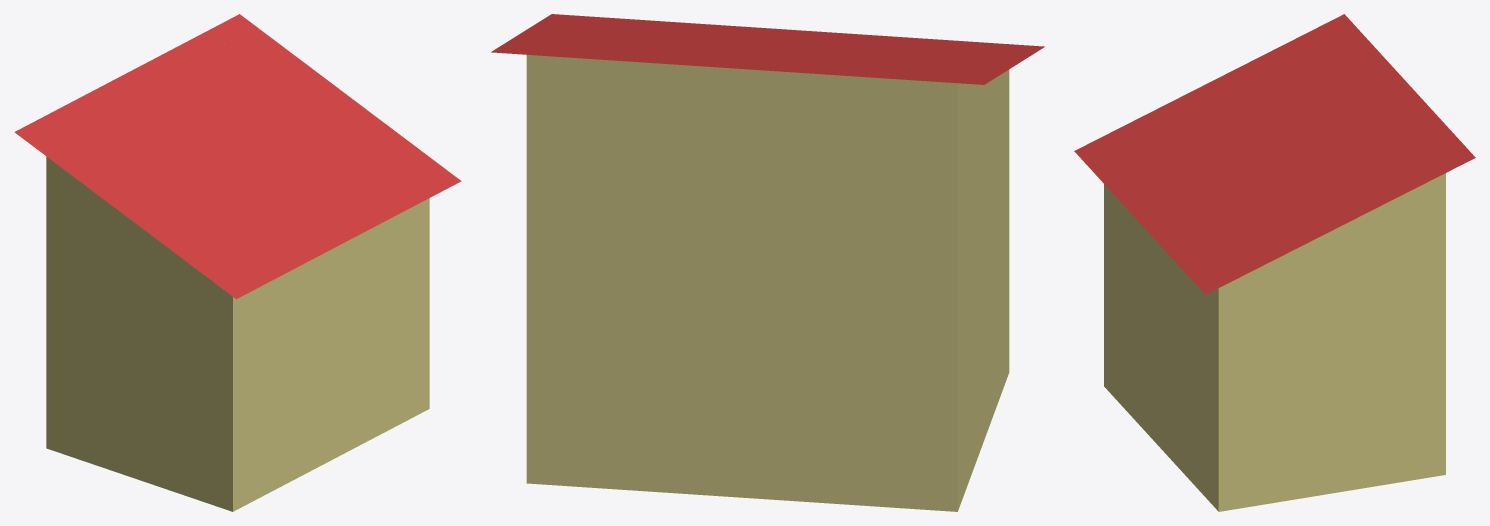
3 renders of one model, left to right at view 1: azimuth 30°, elevation 25°; view 2: azimuth 150°, elevation 25°; view 3: azimuth 270°, elevation 25°, orthographic. The views are drawn at different scales.
Size of the model in its own units: 9.59 by 8.66 by 7.68.
